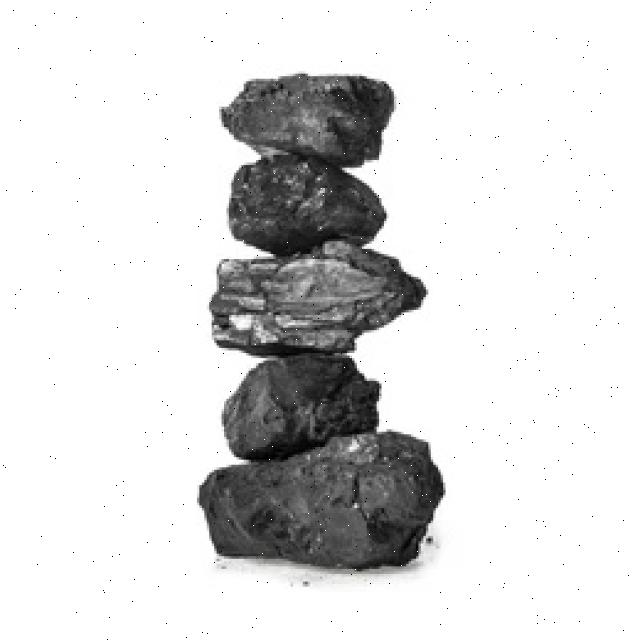Sedimentary: (197, 64, 460, 589)
